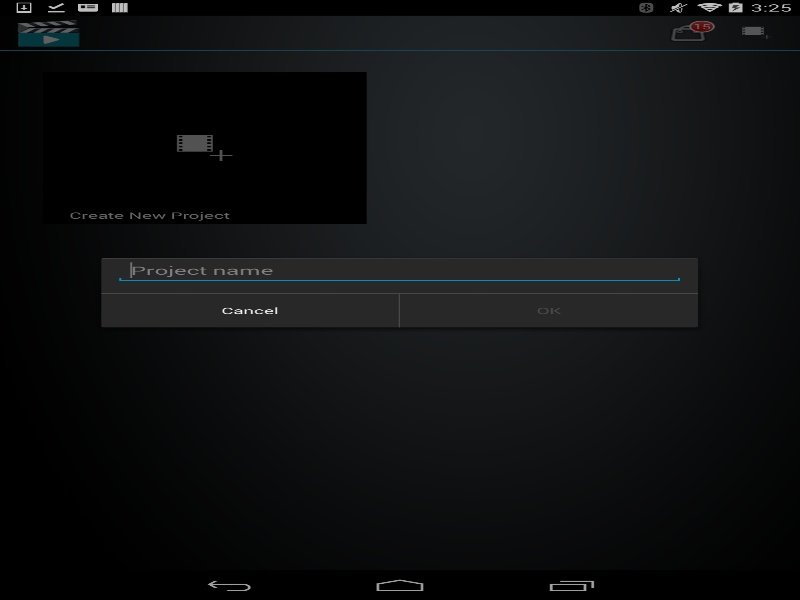Button: (400, 293, 698, 327), (101, 293, 398, 327)
Input: (114, 258, 684, 282)
